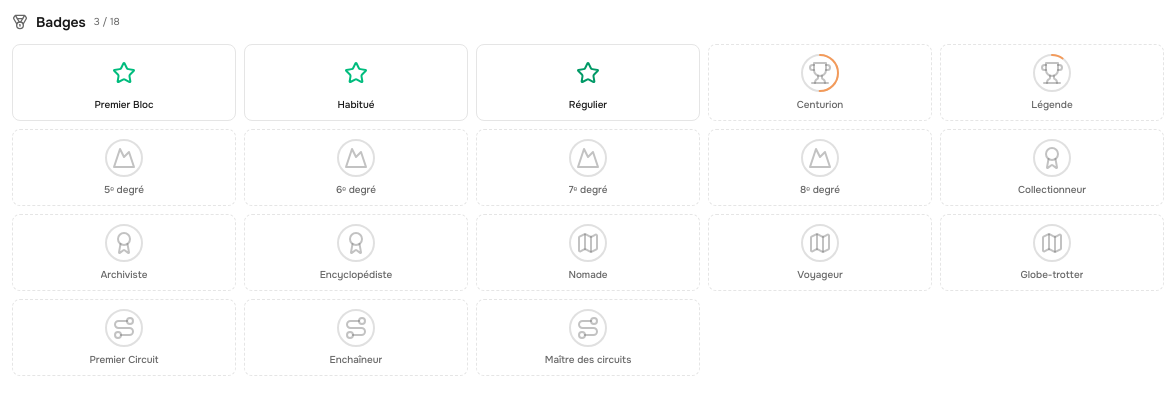
Test case: BadgesSection › displays progress percentage for locked badges in the popover
What coordinates should you click on to do the following:
click the button "Centurion"
I would click on:
 (820, 82)
Its box is [708,44,932,121].
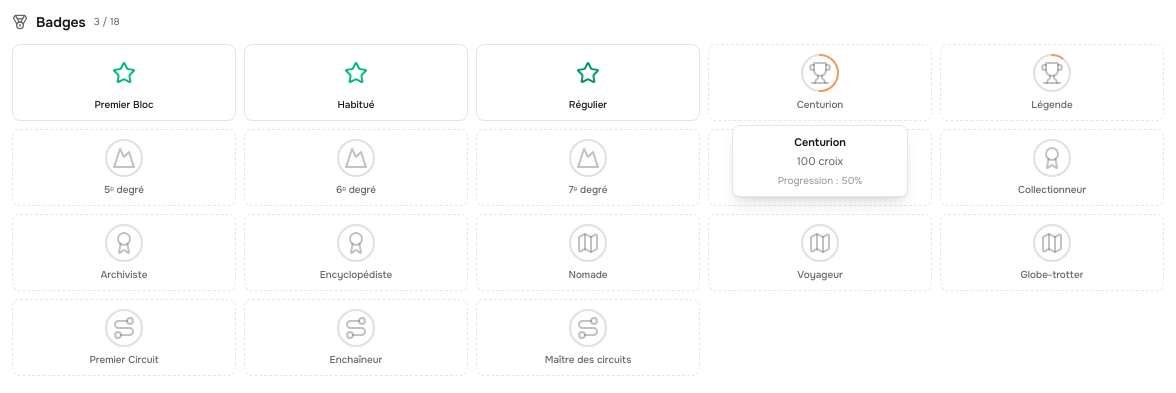
Result: the text "Progression : 50%" is shown at [778,174,862,187]
